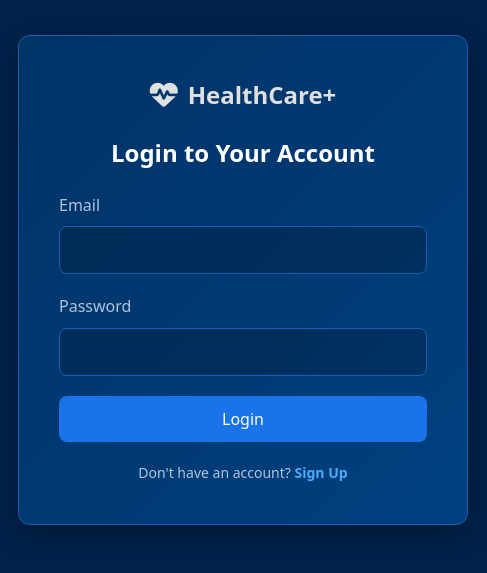
Test: Login page › shows an API error when login fails
Type "bad@healthcare.local" into the field labelled "Email".
click(243, 250); type("bad@healthcare.local")  # box [59,226,427,274]
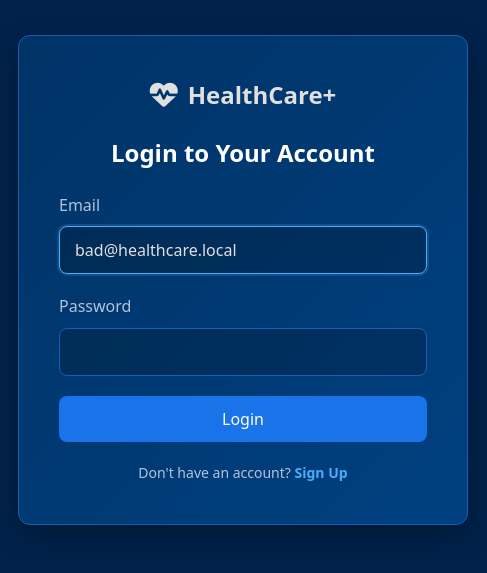
Type "wrong-pass" into the password field labelled "Password".
click(243, 352); type("wrong-pass")  # box [59,328,427,376]
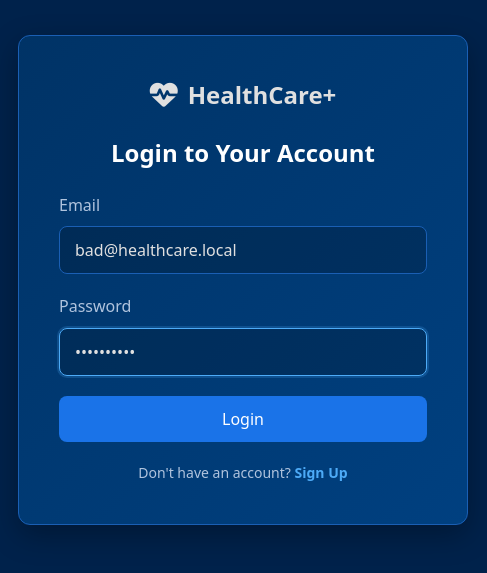
Click the button "Login".
click(243, 419)  # box [59,396,427,442]
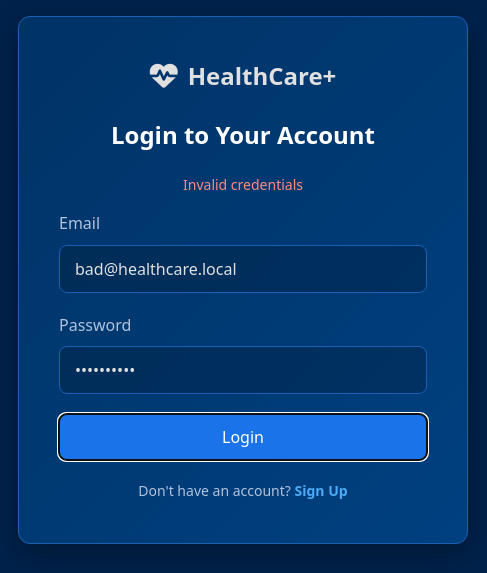
Result: the text "Invalid credentials" is shown at [183,175,303,194]
